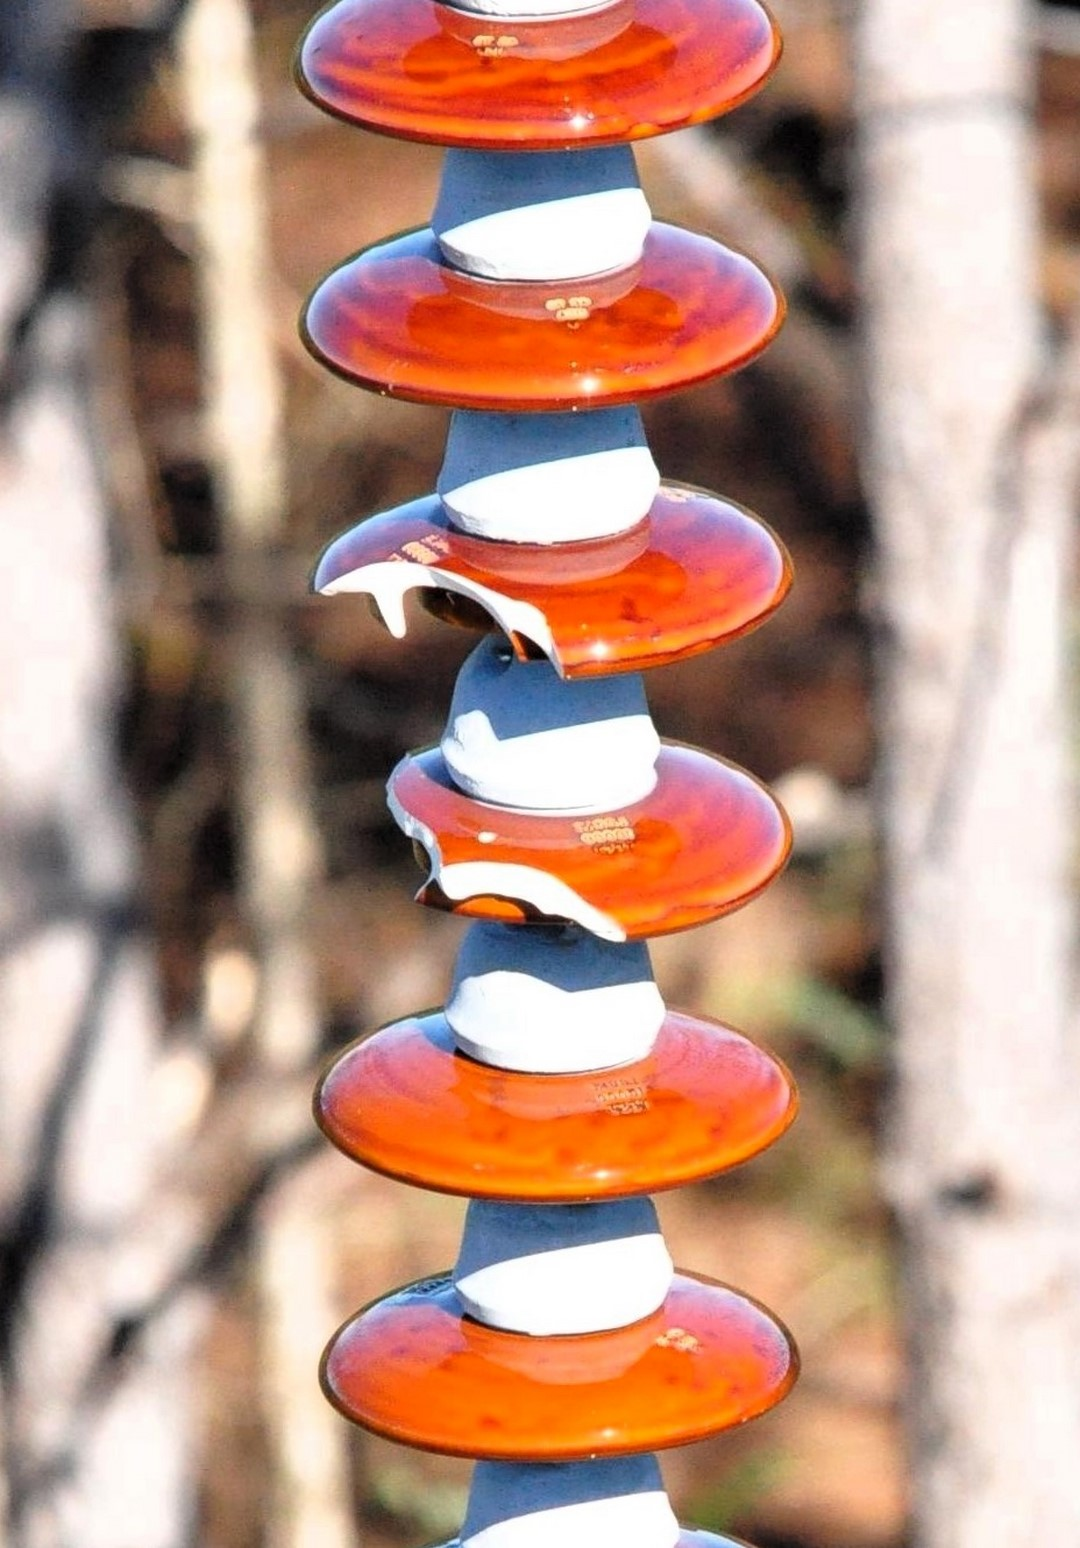insulator breakage: (279, 499, 800, 690), (366, 738, 802, 958)
